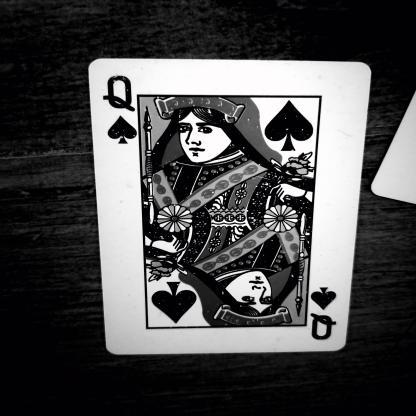QS: (101, 66, 149, 158), (306, 278, 356, 348)
